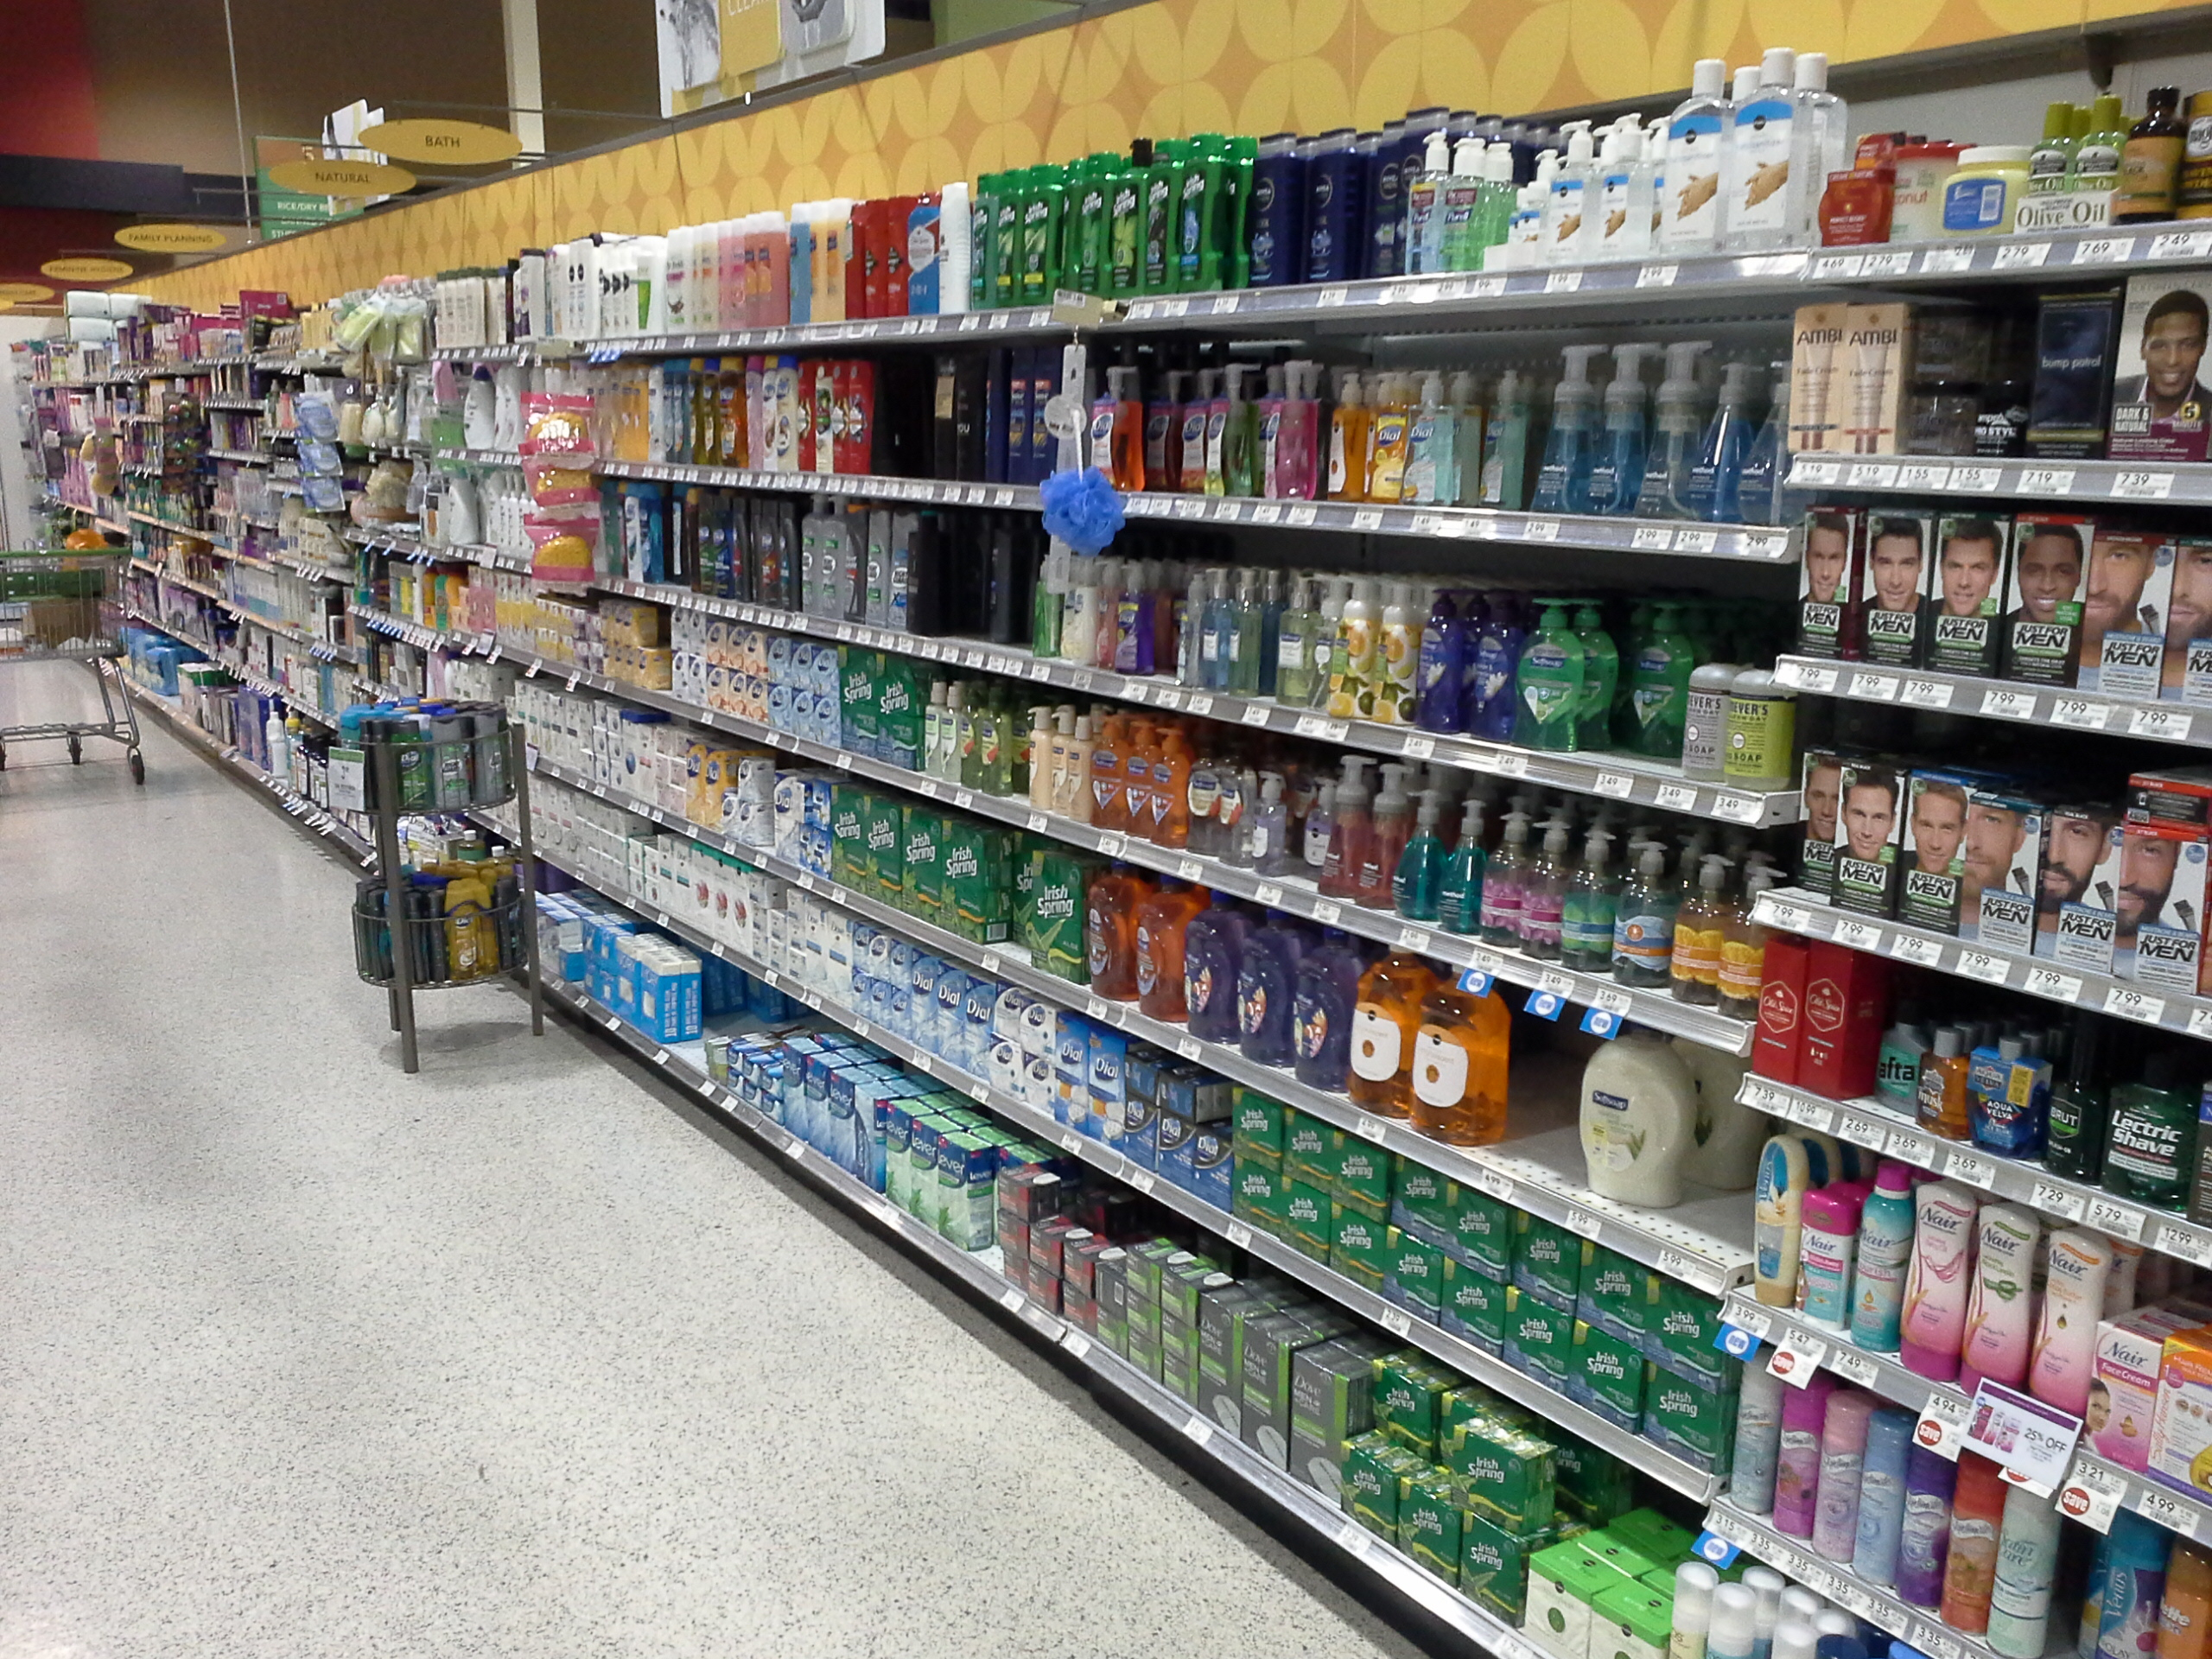Misplacement: (1569, 603, 1693, 772), (1346, 1361, 1475, 1499), (923, 504, 1026, 655), (1134, 544, 1195, 683)
Out-of-stock: (1475, 976, 1575, 1204), (664, 962, 799, 1079)
